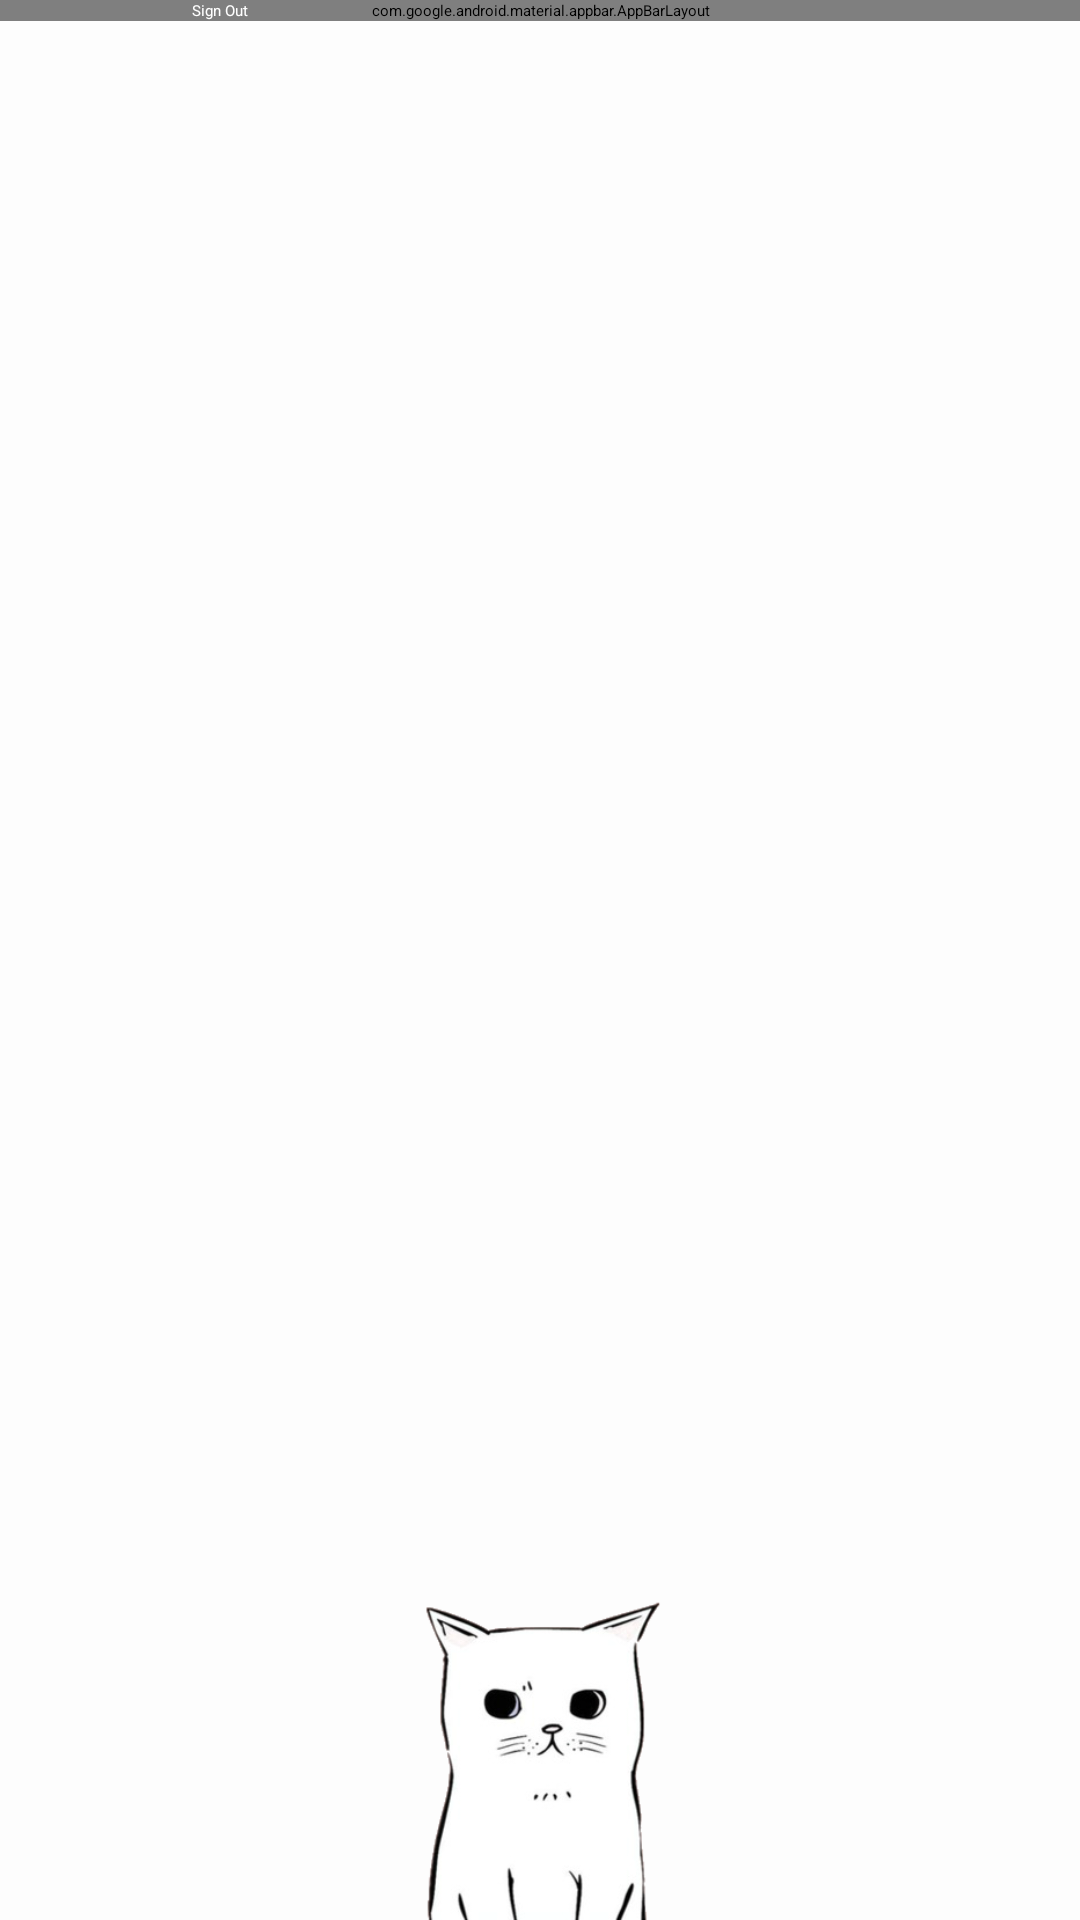

Screen size 1080×1920. Icon name, then its center in pixels as (x=x, y=y):
cat: (x=543, y=1761)
